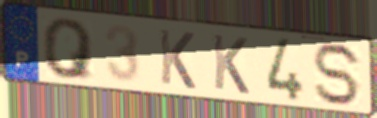3: (103, 23, 143, 85)
4: (264, 36, 307, 104)
K: (156, 26, 198, 92), (210, 31, 251, 97)
Q: (40, 17, 97, 82)
S: (311, 41, 365, 108)
